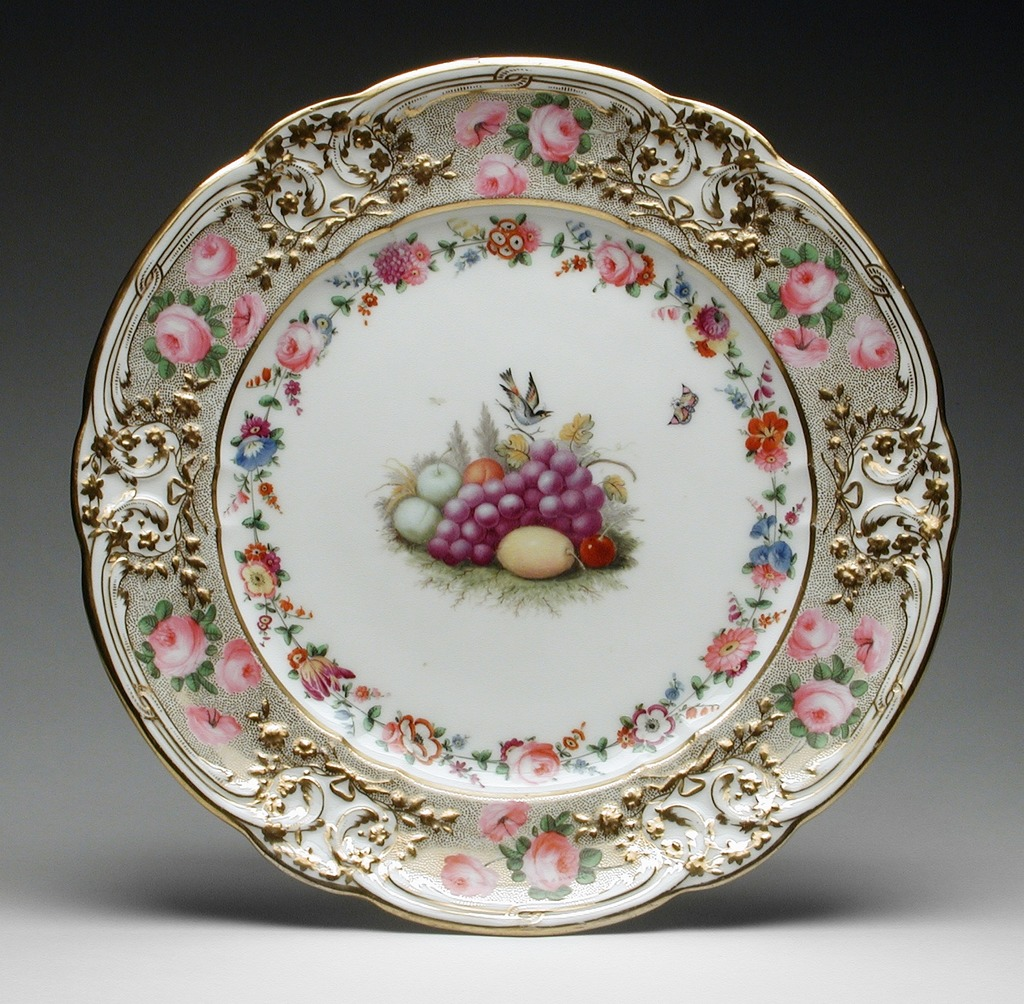plate: (68, 56, 959, 943)
